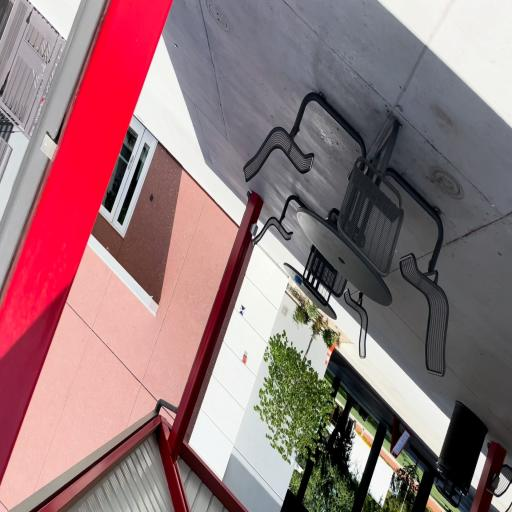target9: (239, 304, 246, 316)
